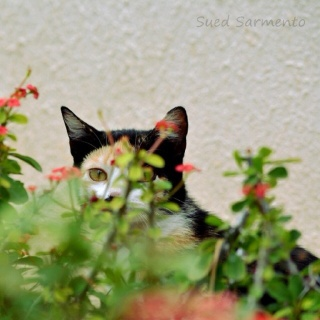Cat: (57, 104, 319, 312)
